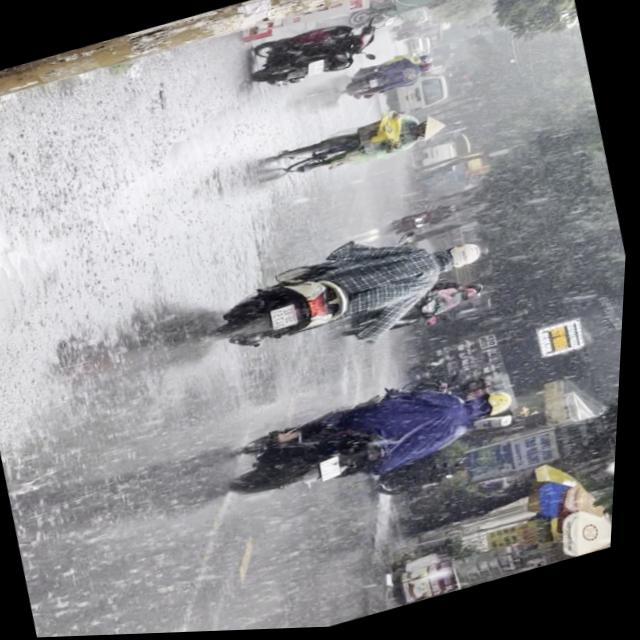helmet: (471, 389, 522, 426), (442, 241, 489, 275)
licenseplate: (205, 359, 533, 523), (186, 214, 502, 382)
nohelmet: (274, 305, 303, 331), (324, 458, 349, 482)
